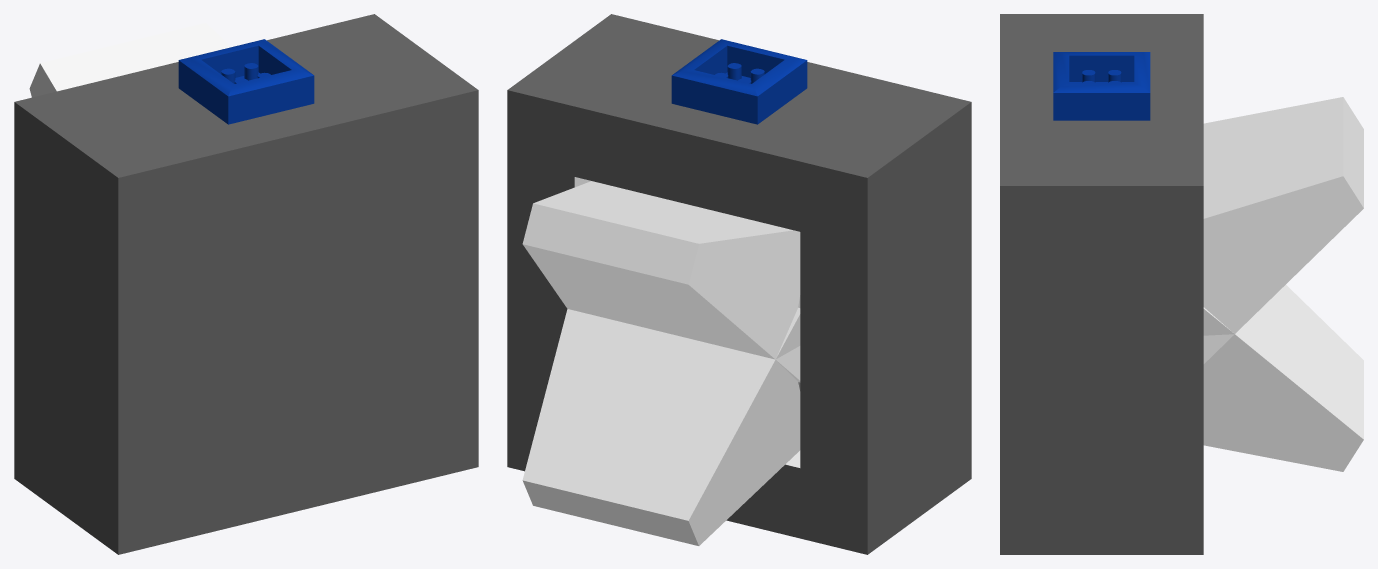
The model's file is Switch.gltf.
3 renders of one model, left to right at view 1: azimuth 30°, elevation 25°; view 2: azimuth 150°, elevation 25°; view 3: azimuth 270°, elevation 25°, orthographic. The views are drawn at different scales.
Visible parts, largest first — view 1: off, on; view 2: off, on; view 3: off, on.
Part boxes in pixels (box(x1,y1,x2,y2)): off: box(14, 14, 478, 554); on: box(29, 23, 231, 97); off: box(507, 14, 971, 554); on: box(522, 181, 800, 390); off: box(1000, 14, 1363, 554); on: box(1203, 97, 1363, 363).
Bounding box in the file's own units: 0.25 × 0.2706 × 0.2235.
